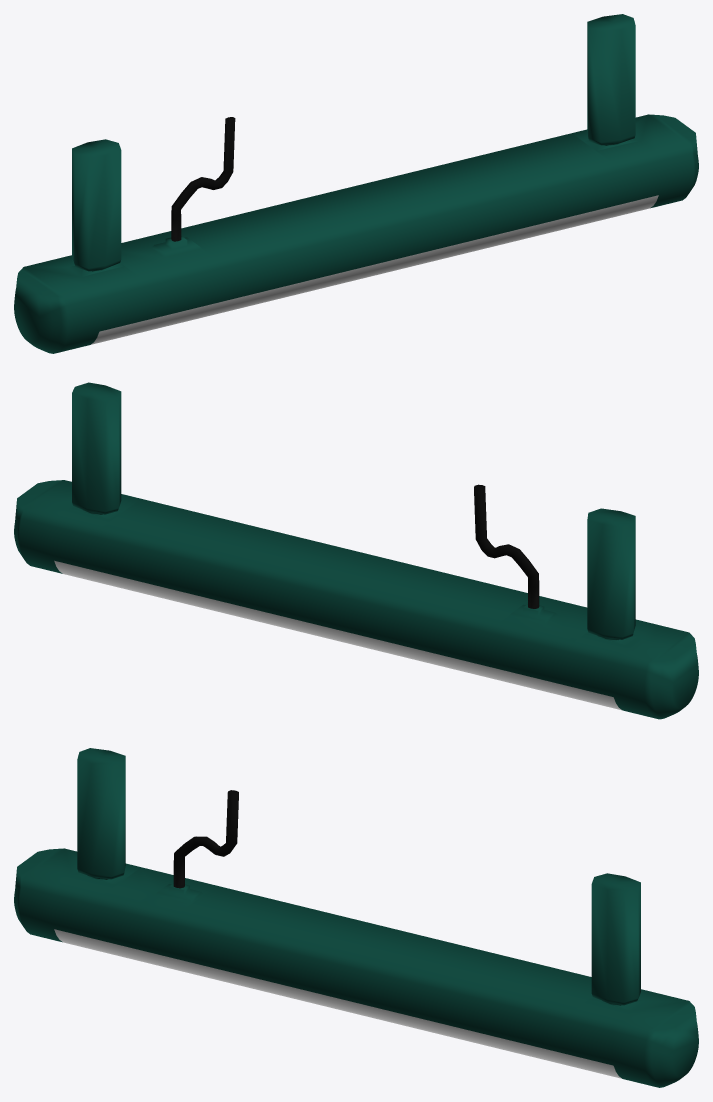
Rendered from lamb.fbx.
The picture shows the model from 3 angles, top to bottom: view 1: azimuth 30°, elevation 25°; view 2: azimuth 150°, elevation 25°; view 3: azimuth 330°, elevation 25°; orthographic projection.
Parts seen in each view (by area): view 1: Cylinder; view 2: Cylinder; view 3: Cylinder.
Part boxes in pixels (x1=…): Cylinder: x1=14, y1=14, x2=698, y2=353; Cylinder: x1=14, y1=382, x2=698, y2=719; Cylinder: x1=14, y1=748, x2=698, y2=1087.
Bounding box in the file's own units: 11090 × 3001 × 1429.
